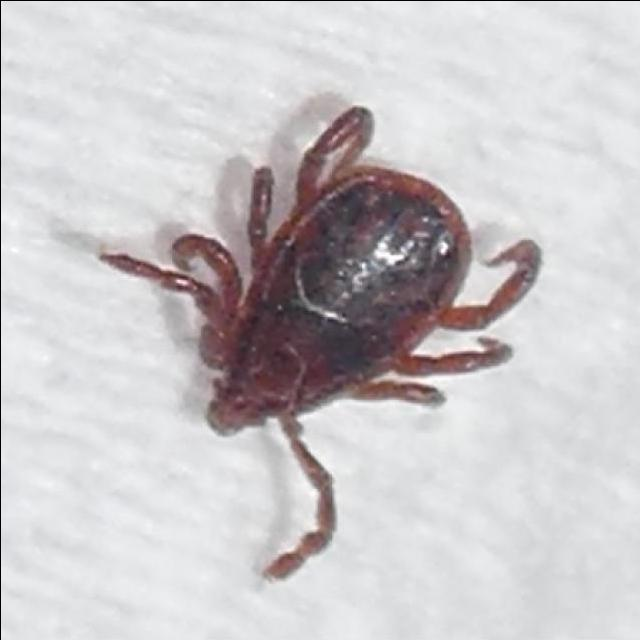Rhipicephalus Sanguineus-M: (100, 104, 544, 581)
